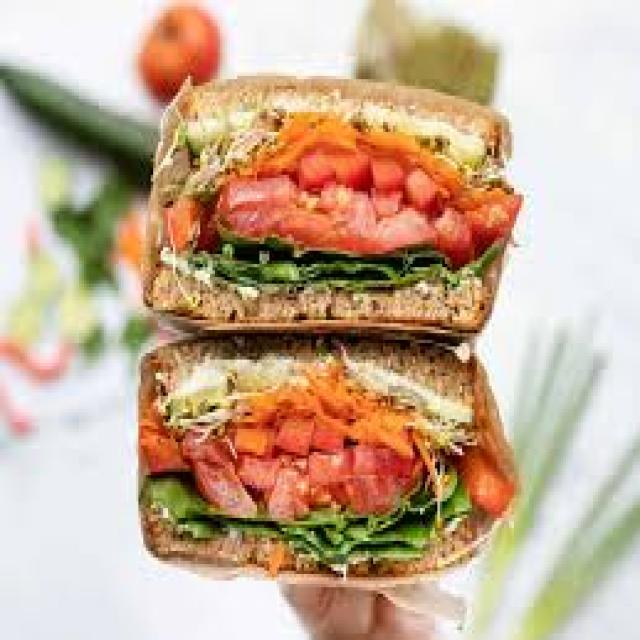Sandwich: (179, 77, 501, 572)
